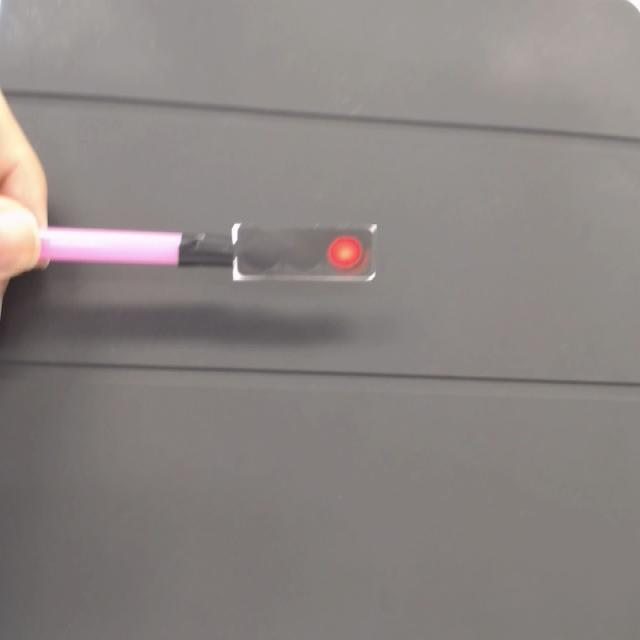traffic light: (231, 221, 385, 288)
